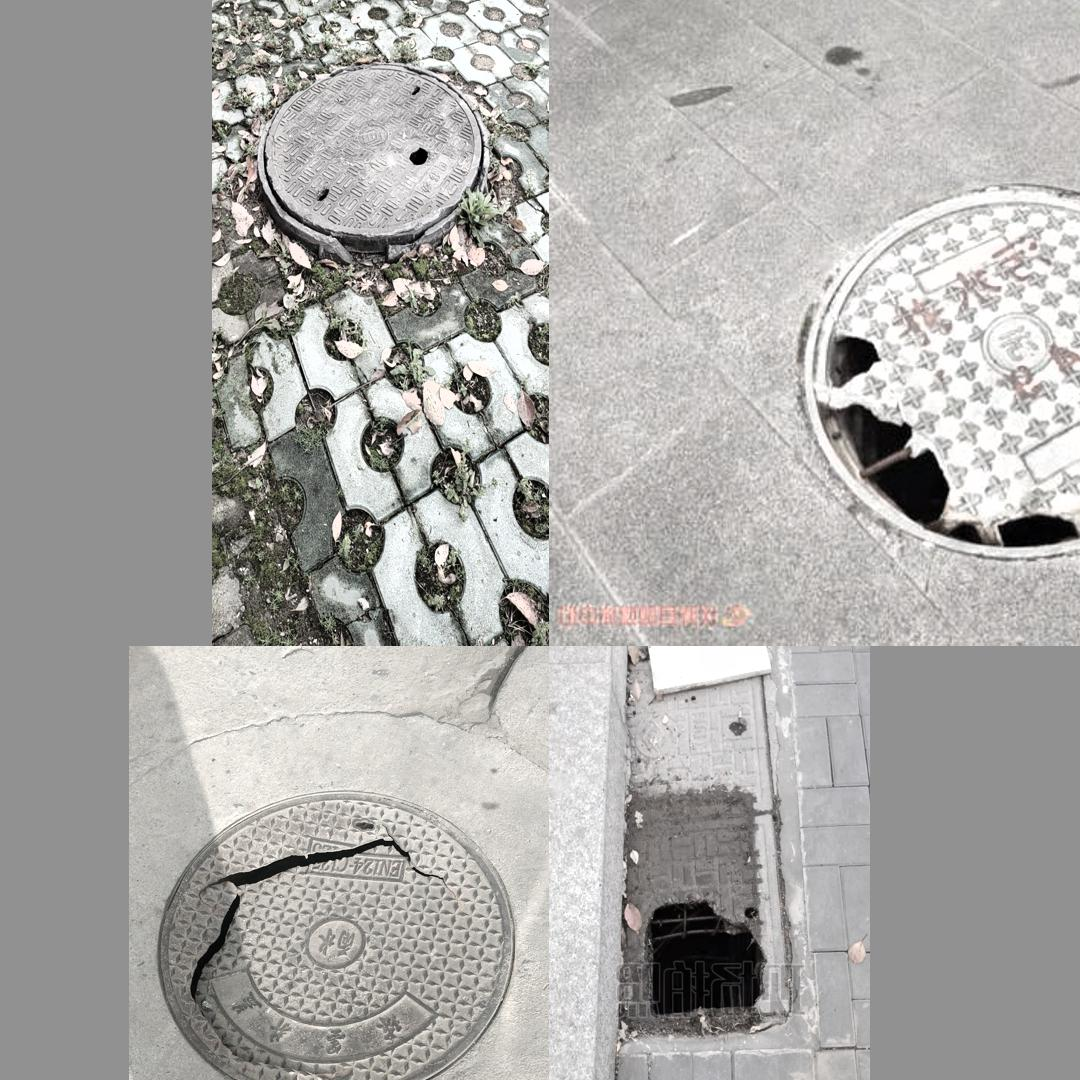broke: (776, 162, 1080, 575), (157, 789, 516, 1080), (599, 735, 785, 1043), (257, 59, 492, 265)
